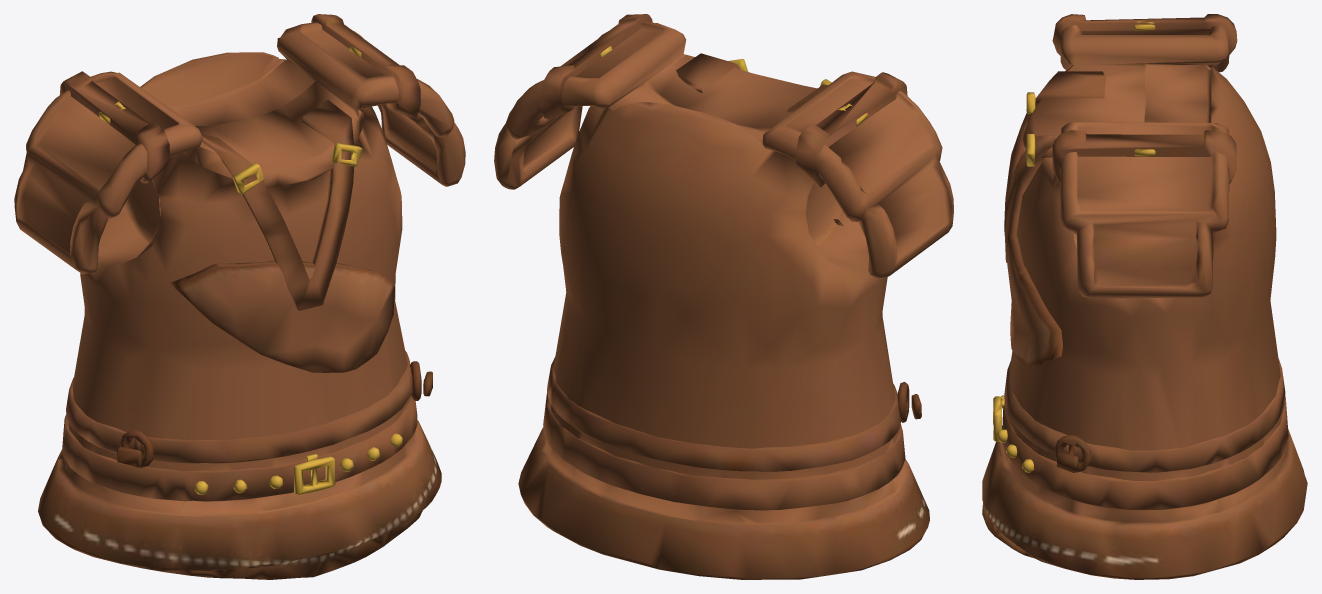
Rendered from leather-armor.glb.
The picture shows the model from 3 angles, left to right: view 1: azimuth 30°, elevation 25°; view 2: azimuth 150°, elevation 25°; view 3: azimuth 270°, elevation 25°; orthographic projection. The views are drawn at different scales.
Parts seen in each view (by area): view 1: leather; view 2: leather; view 3: leather.
Part boxes in pixels (left/top/right/bottom): leather: left=14, top=14, right=465, bottom=579; leather: left=494, top=14, right=953, bottom=579; leather: left=982, top=14, right=1307, bottom=579.
Size of the model in its own units: 0.6874 by 0.7457 by 0.5015.
Materials: 1 (1 with a texture image).
